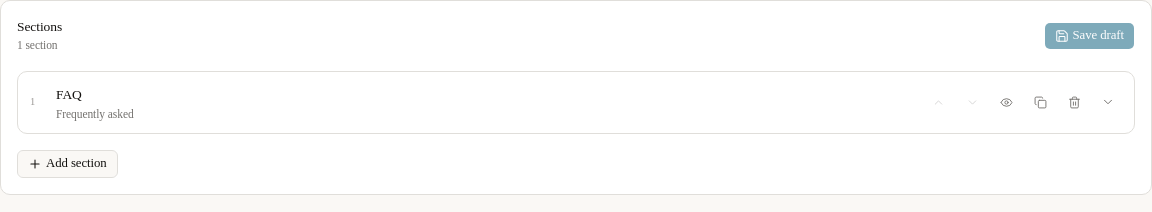
Scenario: BlockEditor › hides a block without removing it
What coordinates should you click on to do the following:
click the button named "Hide FAQ"
I would click on:
 (1006, 102)
Its box is [992, 88, 1020, 116].
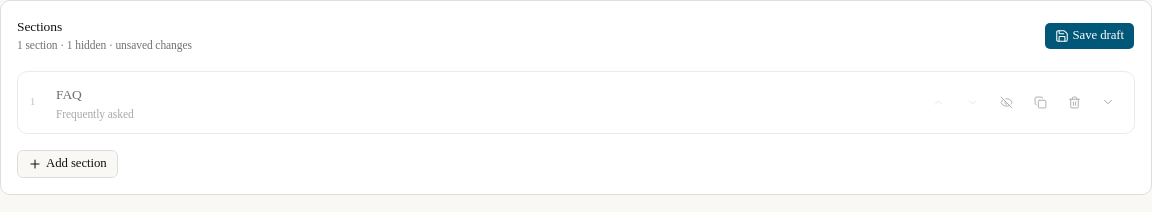
Expected: the button named "Show FAQ" is shown, [992, 88, 1020, 116]
